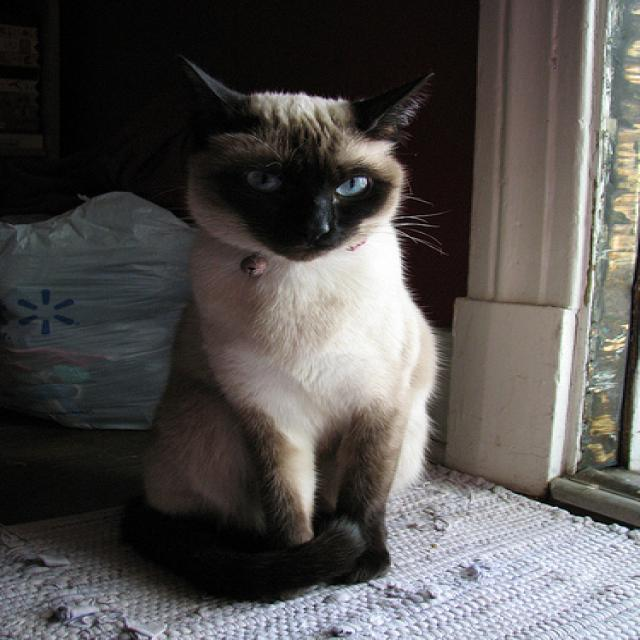Siamese: (149, 41, 458, 262)
